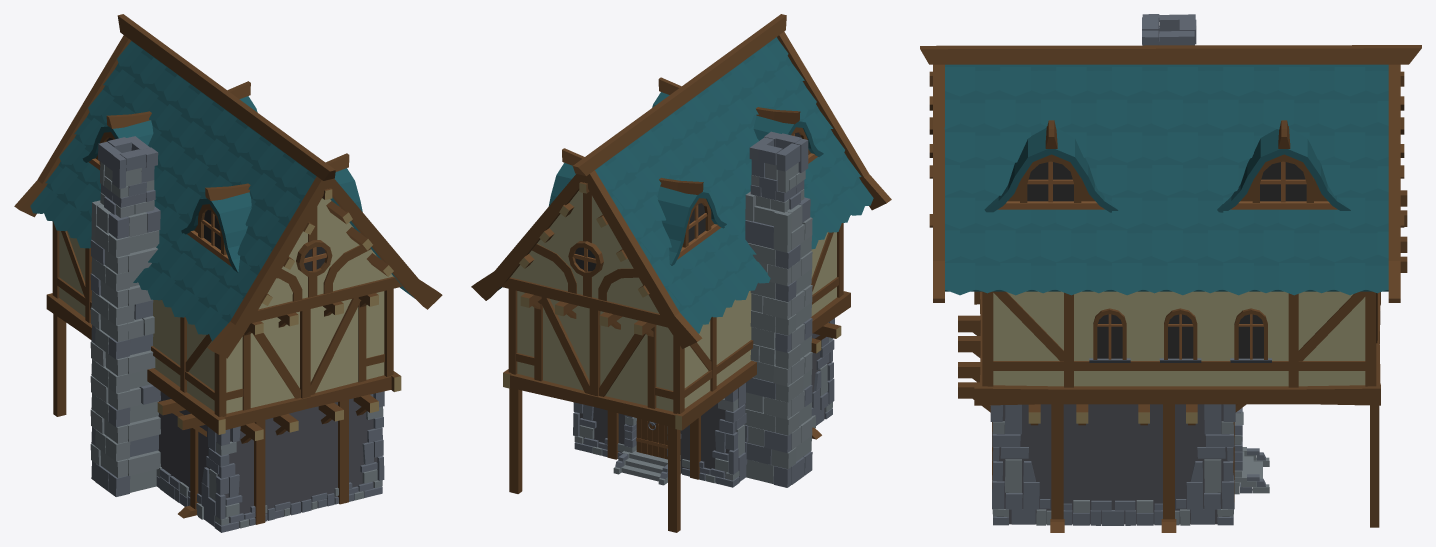
File: House_2.glb
3 views of the same model, side by side, from view 1: azimuth 30°, elevation 25°; view 2: azimuth 150°, elevation 25°; view 3: azimuth 270°, elevation 25° (orthographic). The views are drawn at different scales.
Parts seen in each view (by area): view 1: House_2; view 2: House_2; view 3: House_2.
Part boxes in pixels (bbox=[...]): House_2: bbox=[14, 14, 442, 532]; House_2: bbox=[471, 14, 891, 532]; House_2: bbox=[920, 14, 1421, 532].
Bounding box in the file's own units: 2.22 × 3.25 × 3.42.
1 material, 1 textured.
